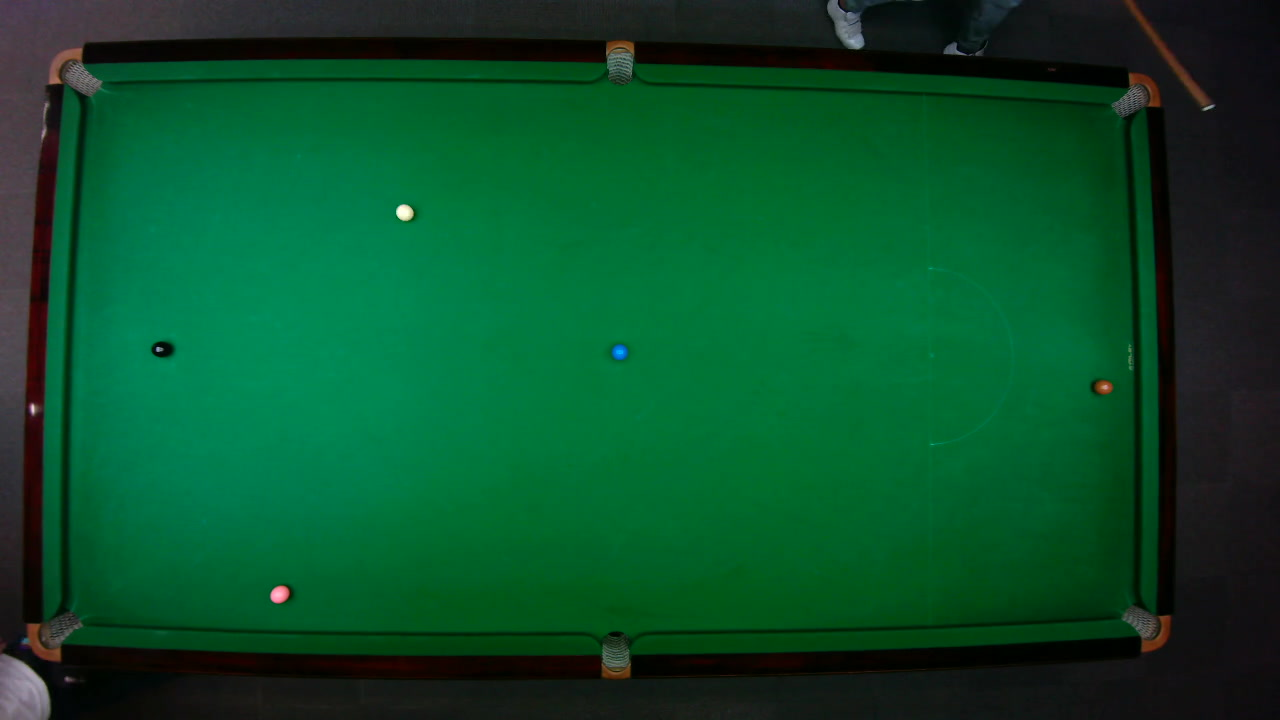bag: (25, 608, 83, 660), (46, 47, 102, 97), (1119, 603, 1171, 652), (1109, 71, 1161, 118), (600, 629, 629, 680), (605, 38, 633, 85)
black: (149, 339, 172, 357)
blue: (610, 342, 628, 360)
brown: (1092, 378, 1113, 394)
cue: (1124, 0, 1212, 111)
pink: (268, 583, 290, 604)
white: (394, 202, 415, 221)
zone: (927, 266, 1013, 445)
